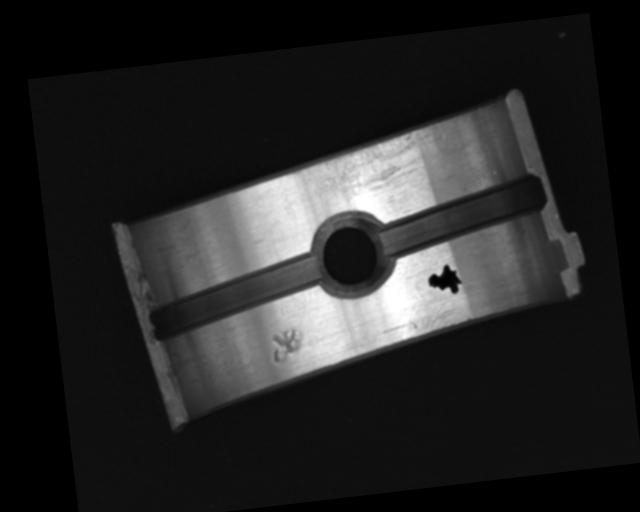blot: (425, 262, 465, 297)
bruise: (269, 327, 307, 365)
gap: (144, 249, 327, 342), (372, 173, 551, 257)
hole: (307, 207, 396, 297)
scratch: (290, 120, 453, 208)
